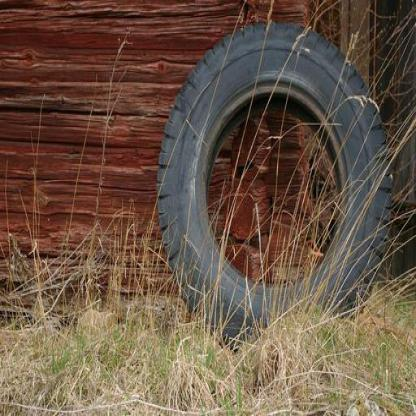Tire: (154, 23, 398, 372)
